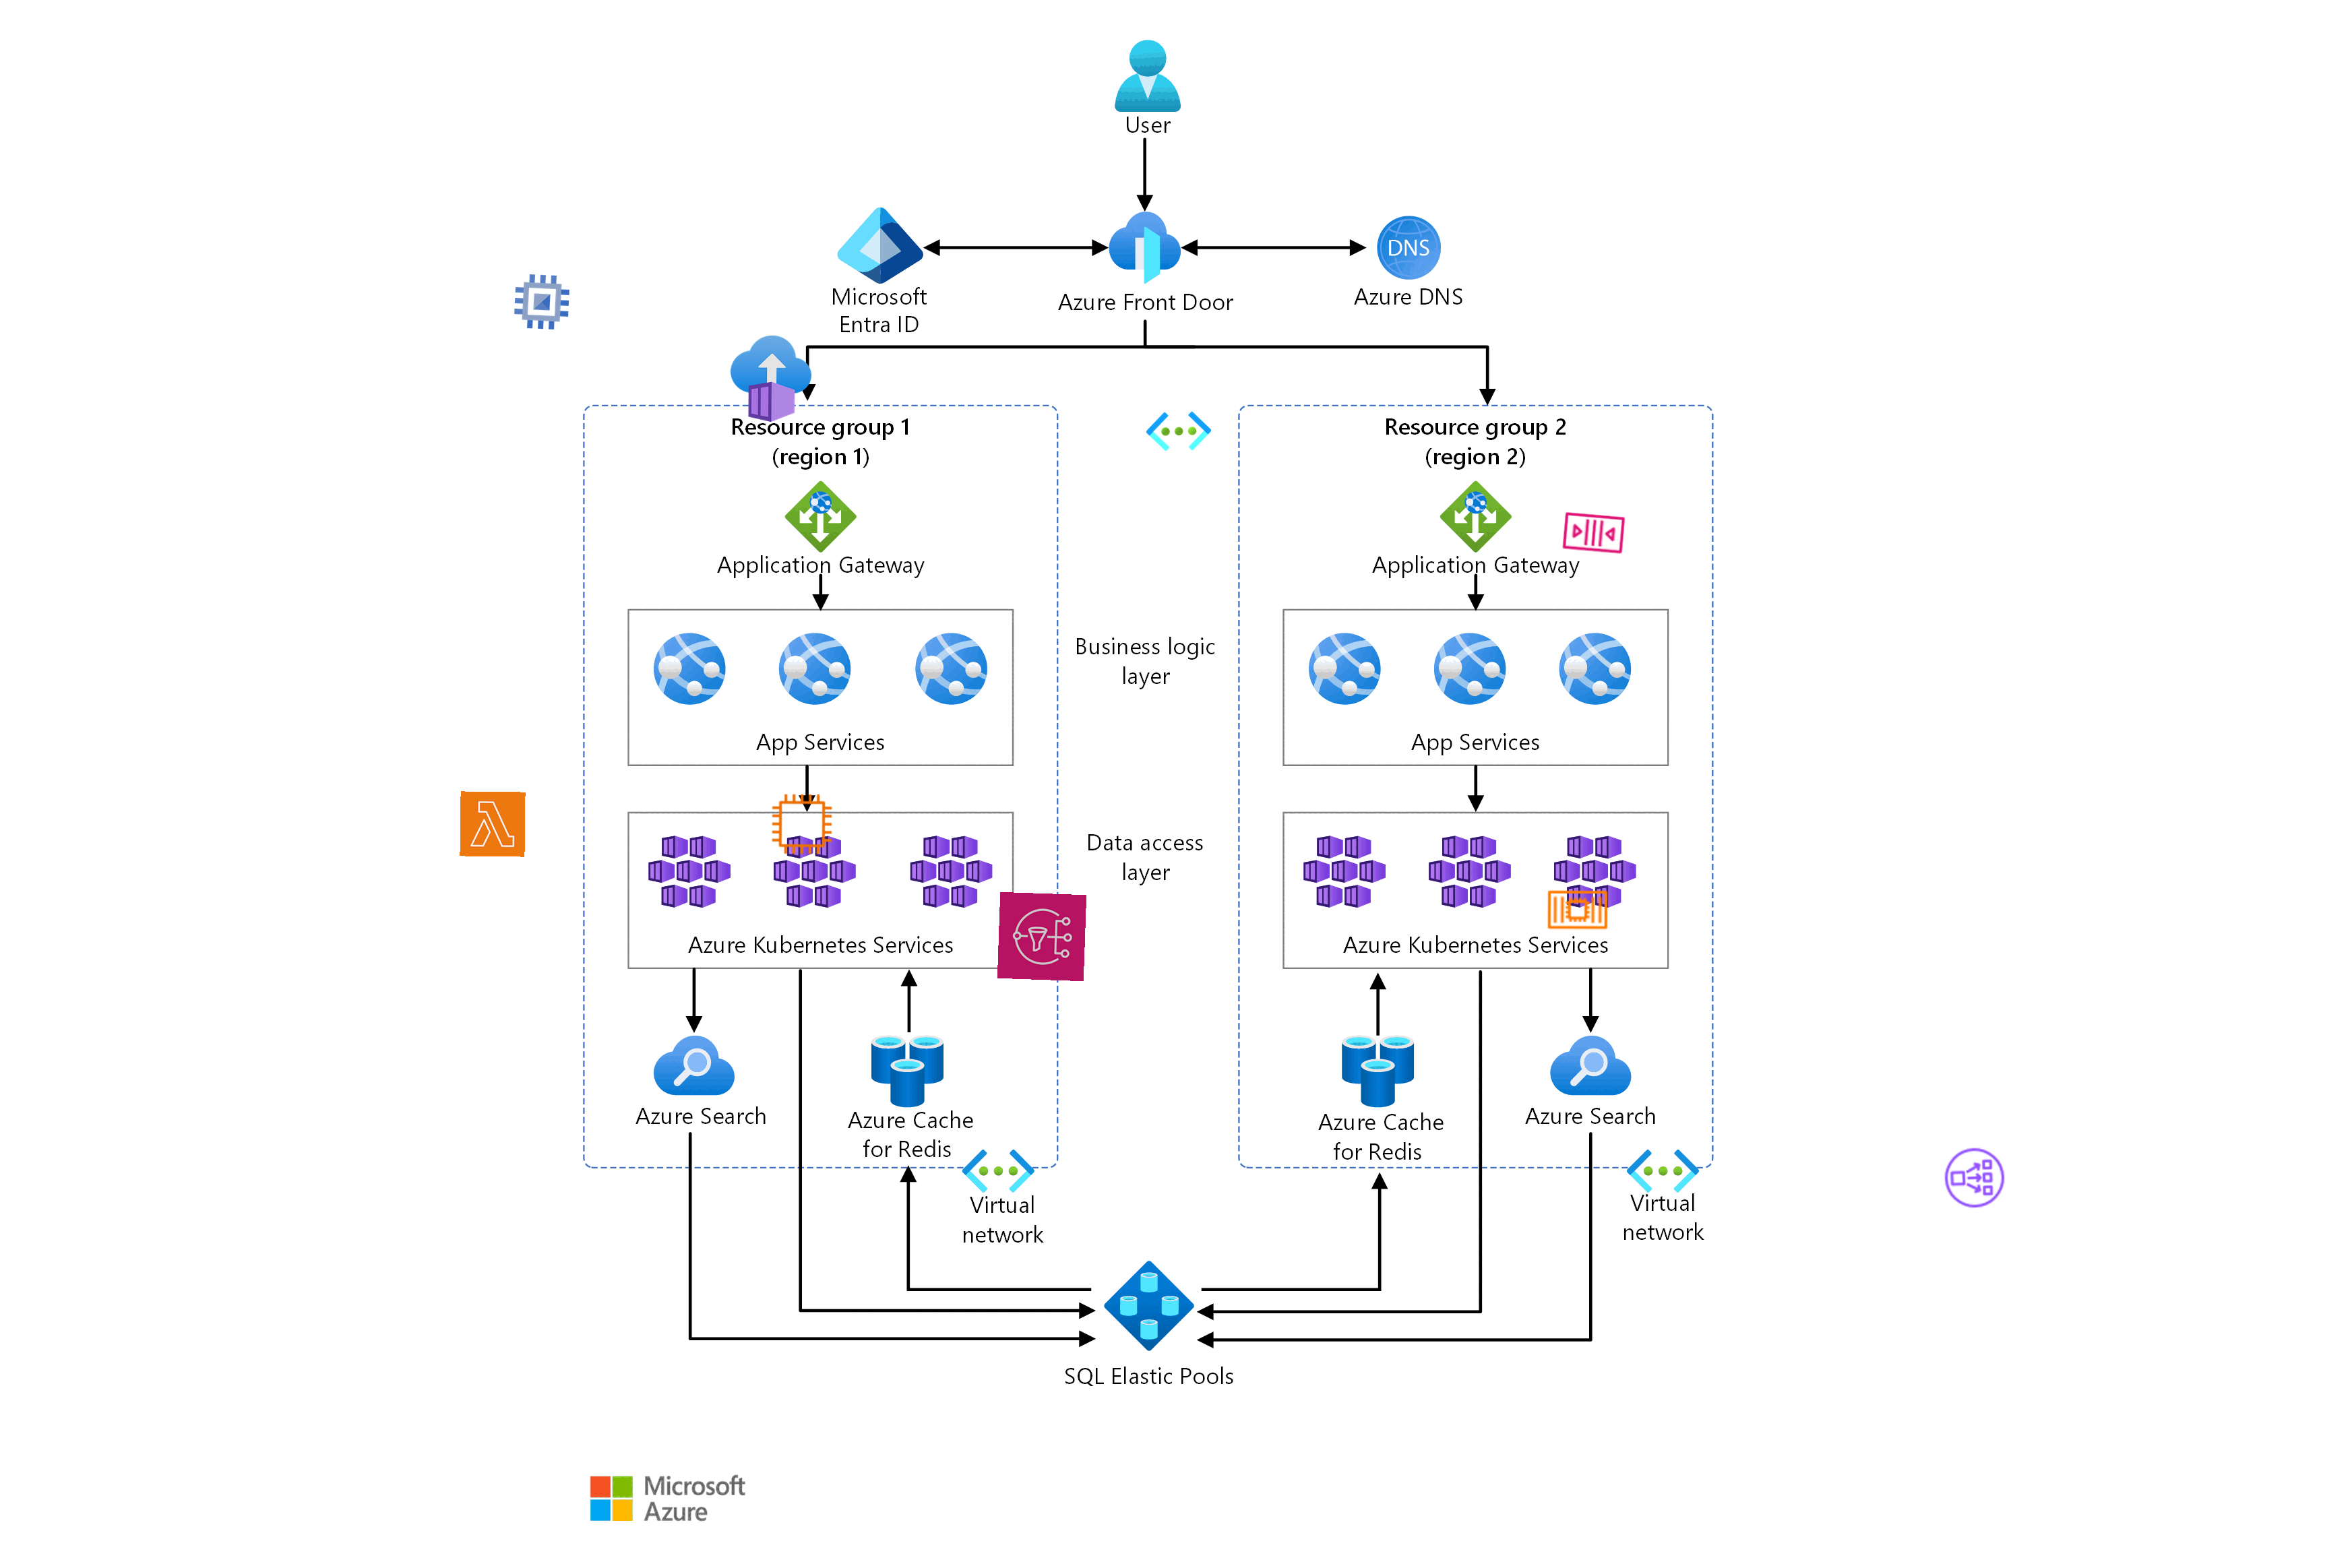aws_amazon_simple_notification_service: (997, 891, 1087, 982)
aws_ec2_instance: (768, 791, 835, 857)
aws_elastic_container_service_container_2: (1545, 877, 1610, 943)
aws_elastic_load_balancing_network_load_balancer: (1941, 1145, 2009, 1211)
aws_lambda: (460, 791, 525, 857)
aws_simple_queue_service_queue: (1559, 497, 1629, 567)
azure_container_instances: (728, 334, 815, 422)
azure_virtual_networks: (1144, 397, 1213, 465)
gcp_compute_engine: (507, 268, 576, 336)
